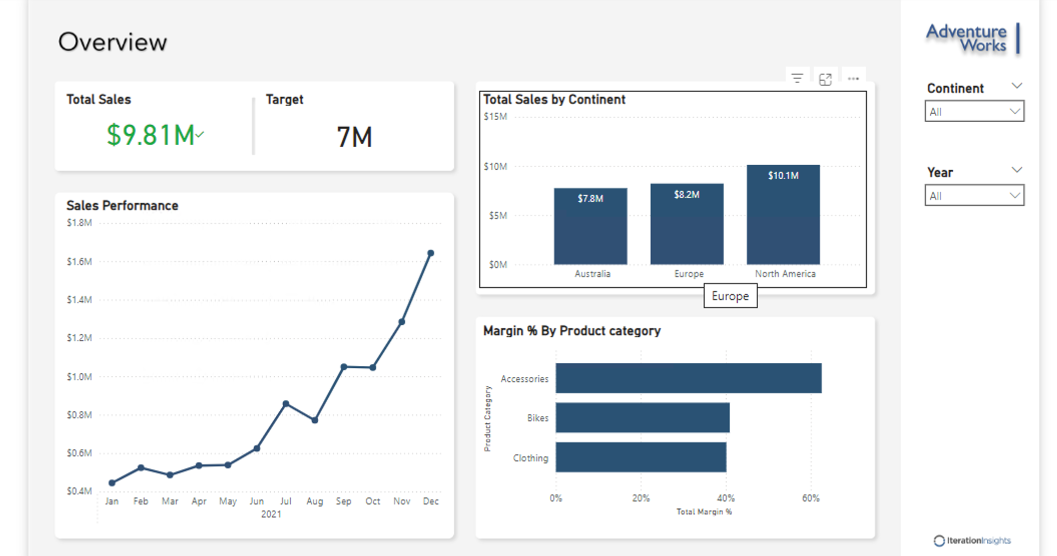

Layout of this report page (visuals, bound fields, positions):
{"tool":"powerbi","page":{"name":"Overview","canvas":[1280,720],"ordinal":0},"visuals":[{"type":"clusteredColumnChart","title":"Total Sales by Continent","fields":{"Category":["Sales Territory.Sales Territory Continent"],"Y":["Sales.Total Sales"]},"box":[570.5,120.6,490.1,249.9],"z":0},{"type":"clusteredBarChart","title":"Margin % By Product category","fields":{"Category":["Product.Product Hierarchy.Product Category","Product.Product Hierarchy.Product Subcategory"],"Y":["Sales.Total Margin %"]},"box":[570.5,412.9,490.1,249.9],"z":1},{"type":"lineChart","title":"Sales Performance","fields":{"Y":["Sales.Total Sales"],"Category":["Order Date.Order Date Hierarchy.Order Date Year","Order Date.Order Date Hierarchy.Order Date Month","Order Date.Order Date Hierarchy.Order Date"]},"box":[43.5,255.3,485.7,423.8],"z":2},{"type":"kpi","title":"Total Sales","fields":{"Indicator":["Sales.Total Sales"],"TrendLine":["Order Date.Order Date Year"],"Goal":["Sales.Target"]},"box":[43.5,120.6,234.7,90.2],"z":3},{"type":"card","title":"Target","fields":{"Values":["Sales.Target"]},"box":[295.6,120.6,233.6,90.2],"z":4},{"type":"slicer","title":"Continent","fields":{"Values":["Sales Territory.Sales Territory Continent"]},"box":[1125,101.8,146.4,82.7],"z":5},{"type":"slicer","title":"Year","fields":{"Values":["Order Date.Order Date Year"]},"box":[1125,208.3,146.4,73.2],"z":6}]}

Visuals, with their boxes on the page's 1280x720 design canvas (x1, y1, x2, y2). These are canvas units, not pixel positions in the 1057x556 screenshot, which may show the page scaled, cropped or inside an application window:
"Total Sales by Continent" clusteredColumnChart: (left=570, top=121, right=1061, bottom=370)
"Margin % By Product category" clusteredBarChart: (left=570, top=413, right=1061, bottom=663)
"Sales Performance" lineChart: (left=44, top=255, right=529, bottom=679)
"Total Sales" kpi: (left=44, top=121, right=278, bottom=211)
"Target" card: (left=296, top=121, right=529, bottom=211)
"Continent" slicer: (left=1125, top=102, right=1271, bottom=184)
"Year" slicer: (left=1125, top=208, right=1271, bottom=282)
